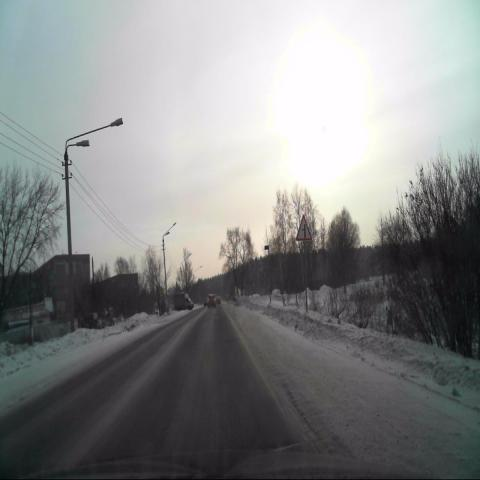2_3_3: (296, 214, 311, 240)
